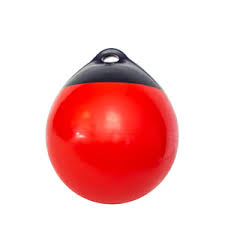buoy: (46, 82, 179, 205)
